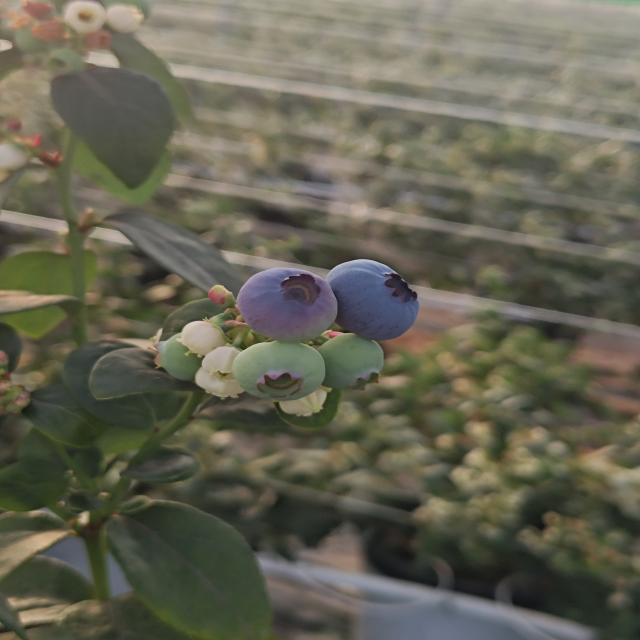ripe: (324, 257, 422, 342), (234, 265, 339, 344)
